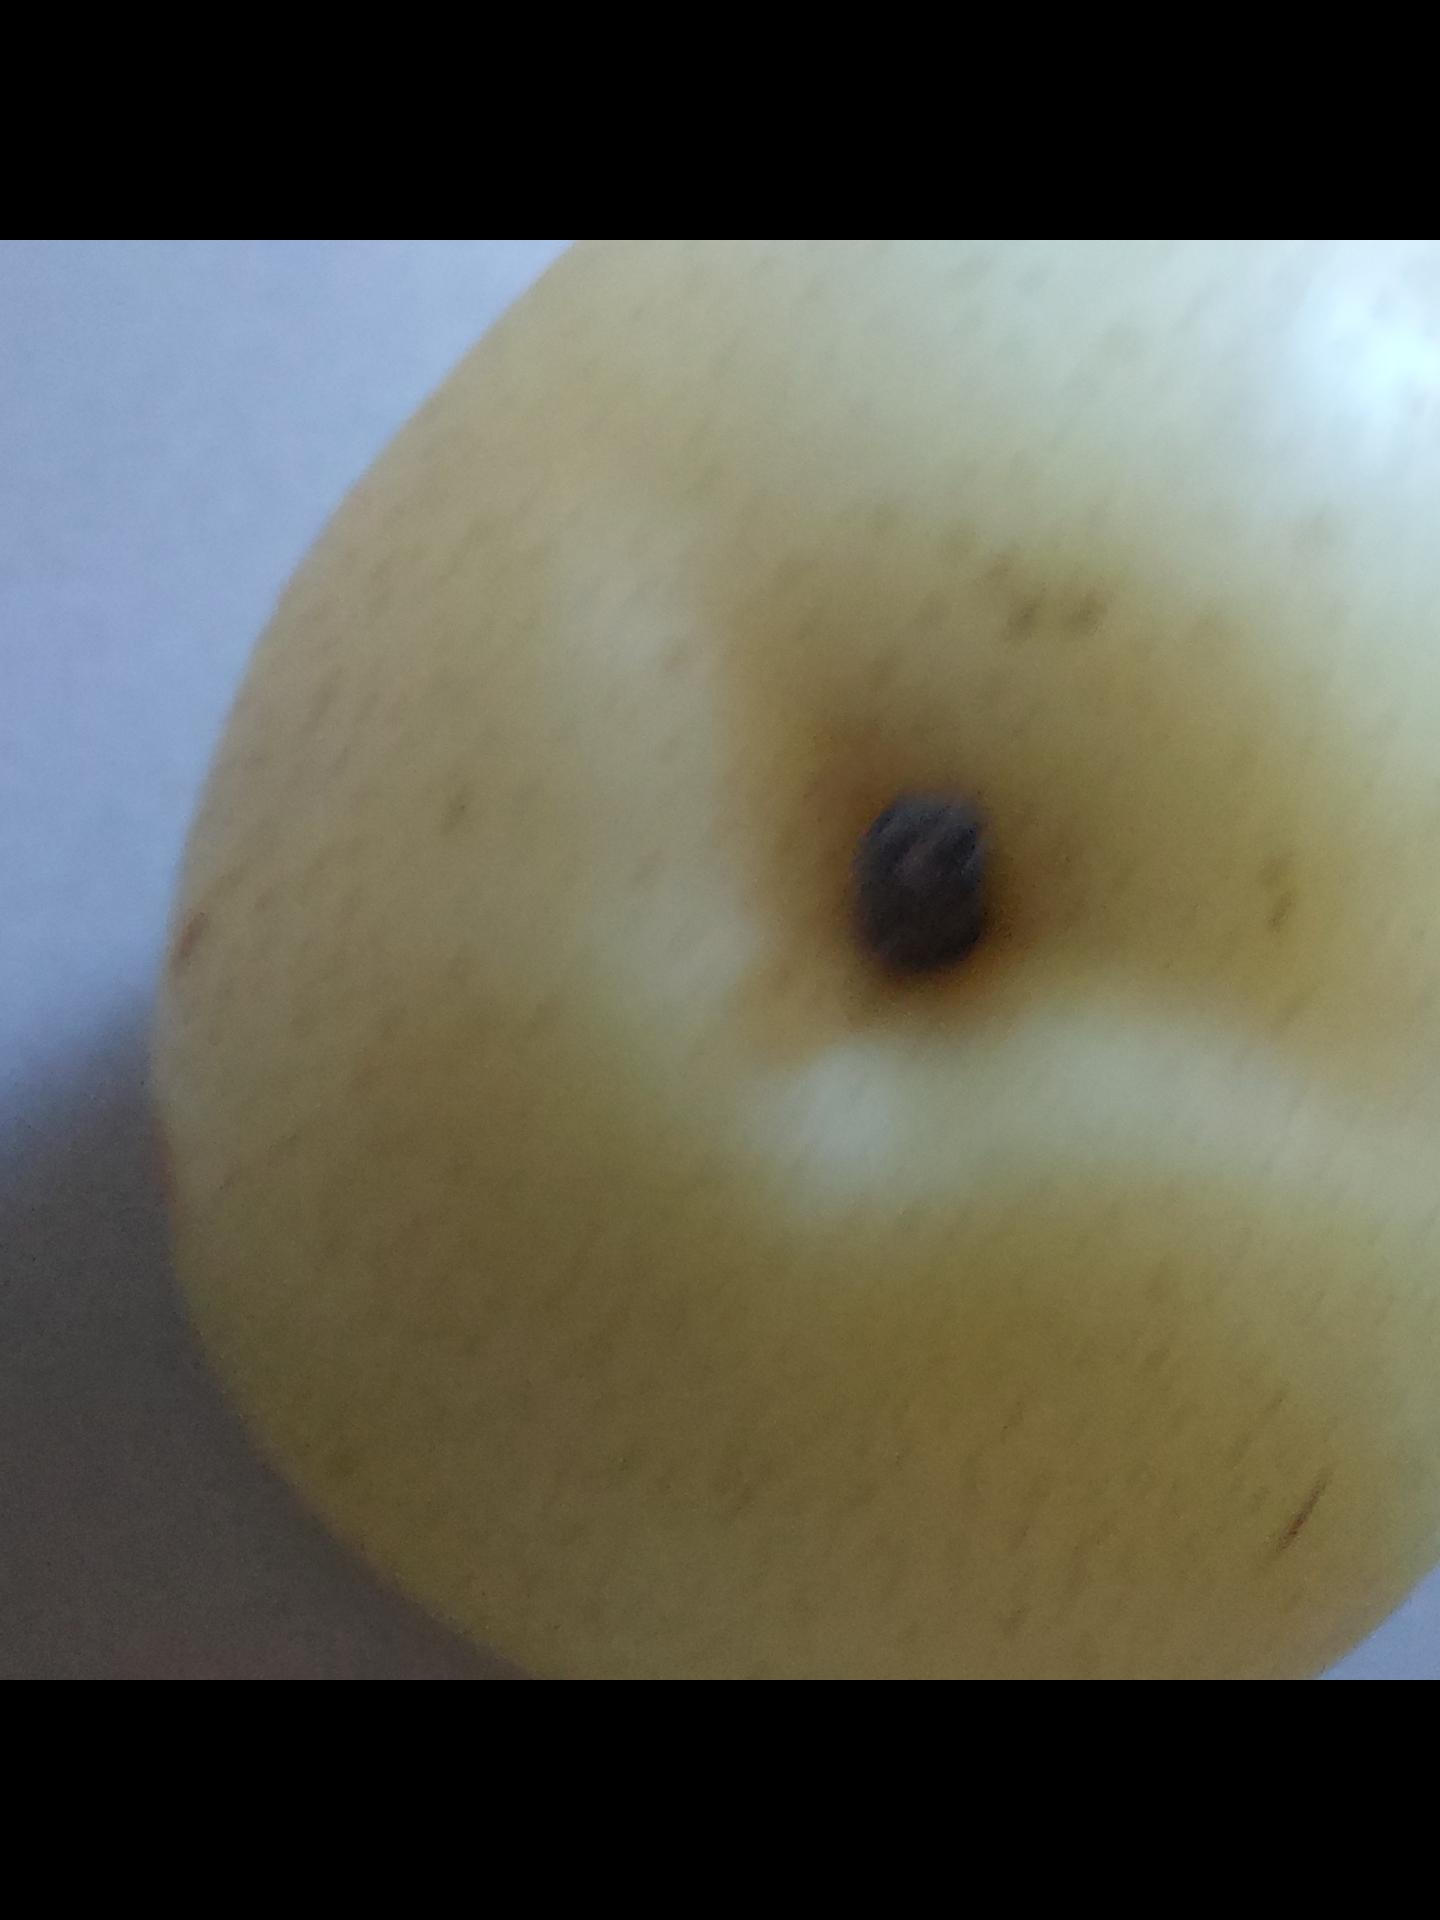Good Pear: (53, 240, 1440, 1680)
